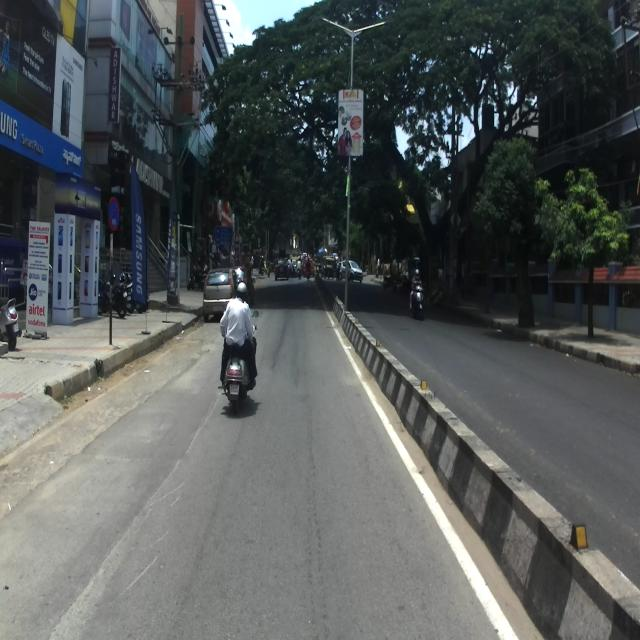motorcycle ahead at: (216, 354, 260, 415)
sign board ahead at: (100, 198, 125, 240)
